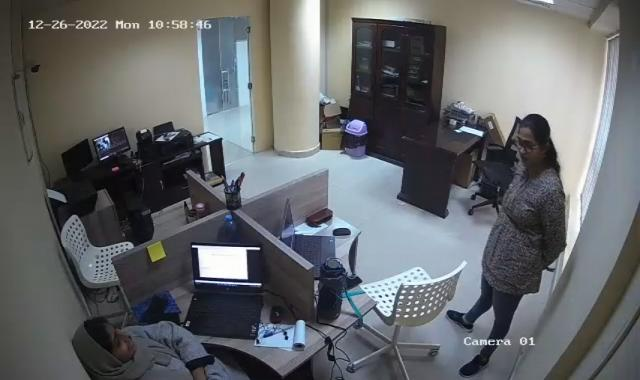no_hairnet: (81, 317, 137, 360), (512, 123, 542, 168)
